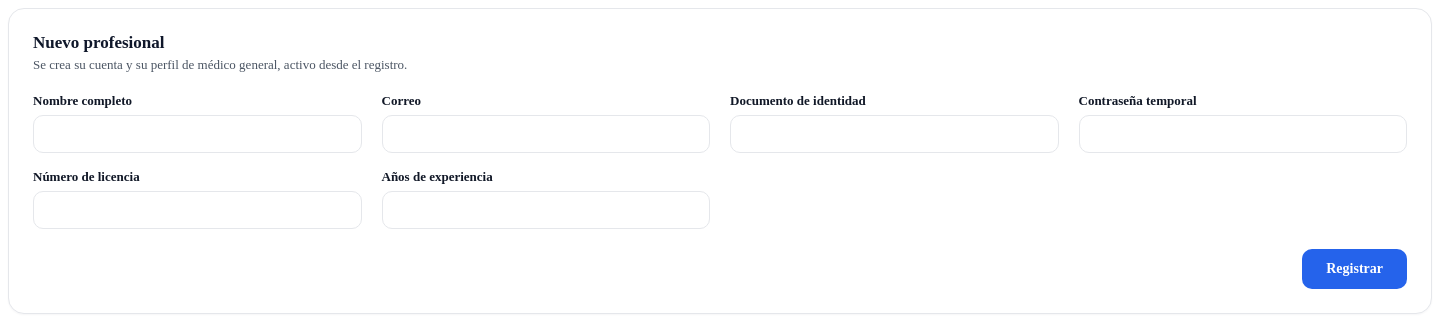
Test: RegisterProfessionalFormComponent › disables the button while the registration is being sent
This screenshot has width=1440, height=331.
Type "Ana Gómez" into the field labelled "Nombre completo" at (197, 134), box [33,115,362,153]
Type "ana@telemed.test" into the field labelled "Correo" at (546, 134), box [382,115,710,153]
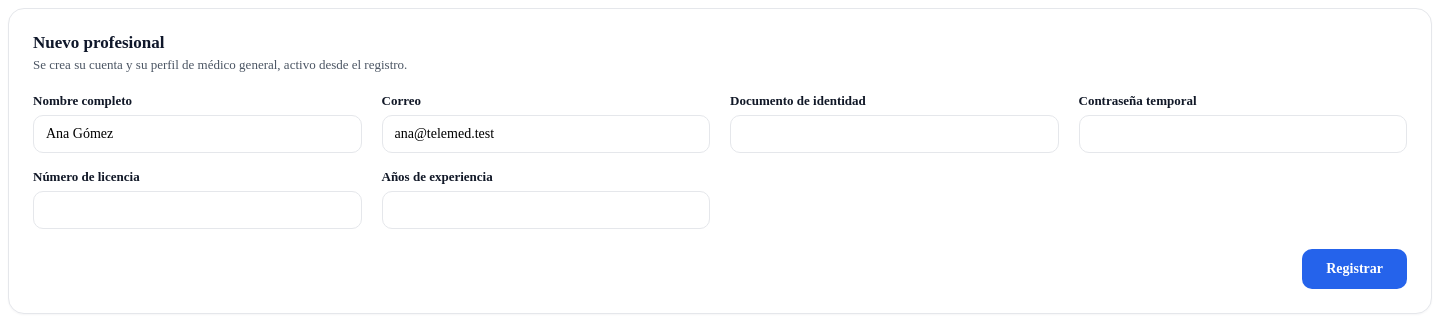
Type "1075000001" into the field labelled "Documento de identidad" at (894, 134), box [730,115,1058,153]
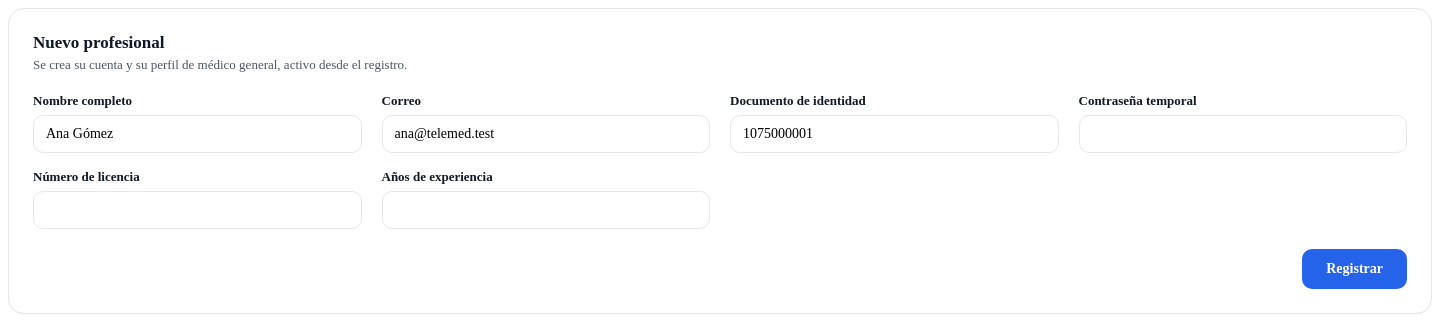
Type "temporary-pass-1" into the password field labelled "Contraseña temporal" at (1243, 134), box [1078,115,1407,153]
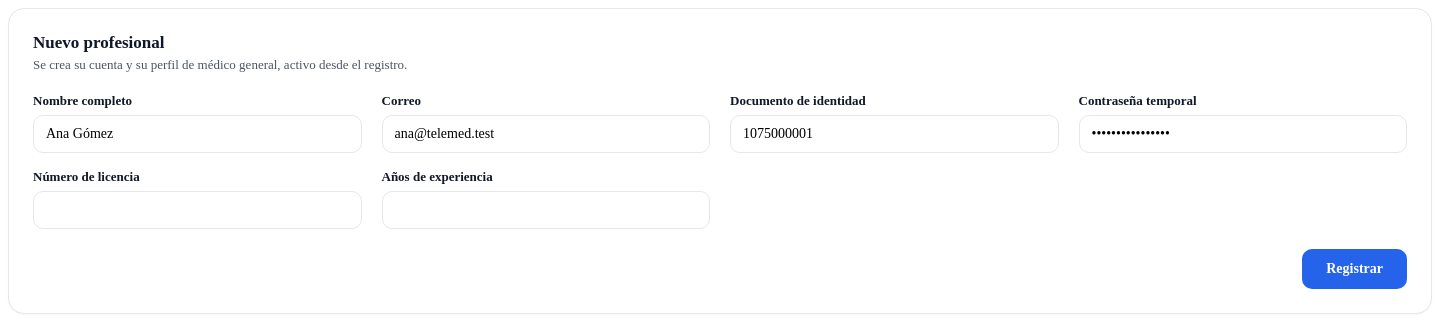
Type "RM-12345" into the field labelled "Número de licencia" at (197, 210), box [33,191,362,229]
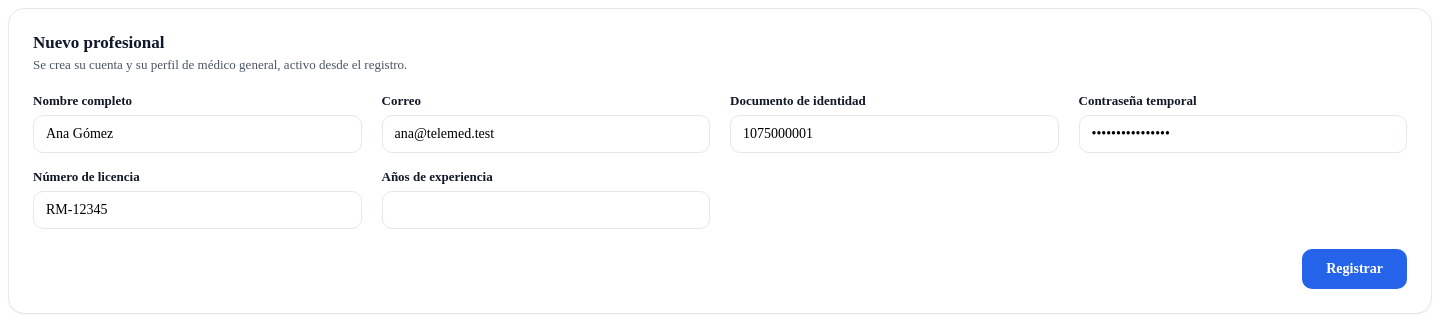
Type "7" into the field labelled "Años de experiencia" at (546, 210), box [382,191,710,229]
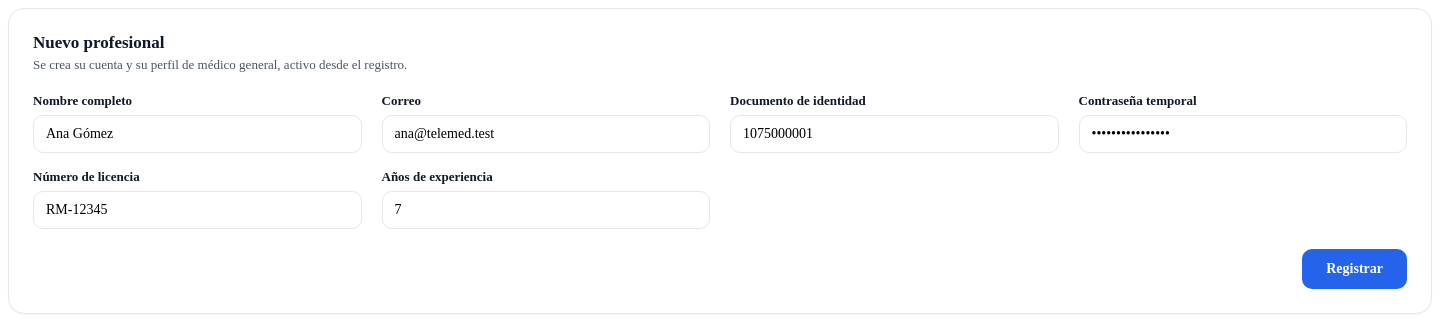
Submit the form
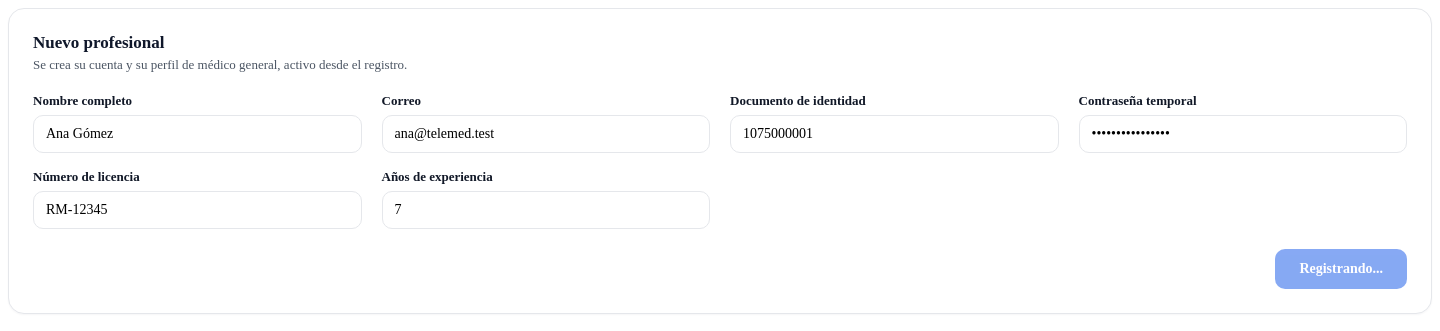
Check: the button with test id "register-submit" reads "Registrando...", box [1275,249,1407,289]
